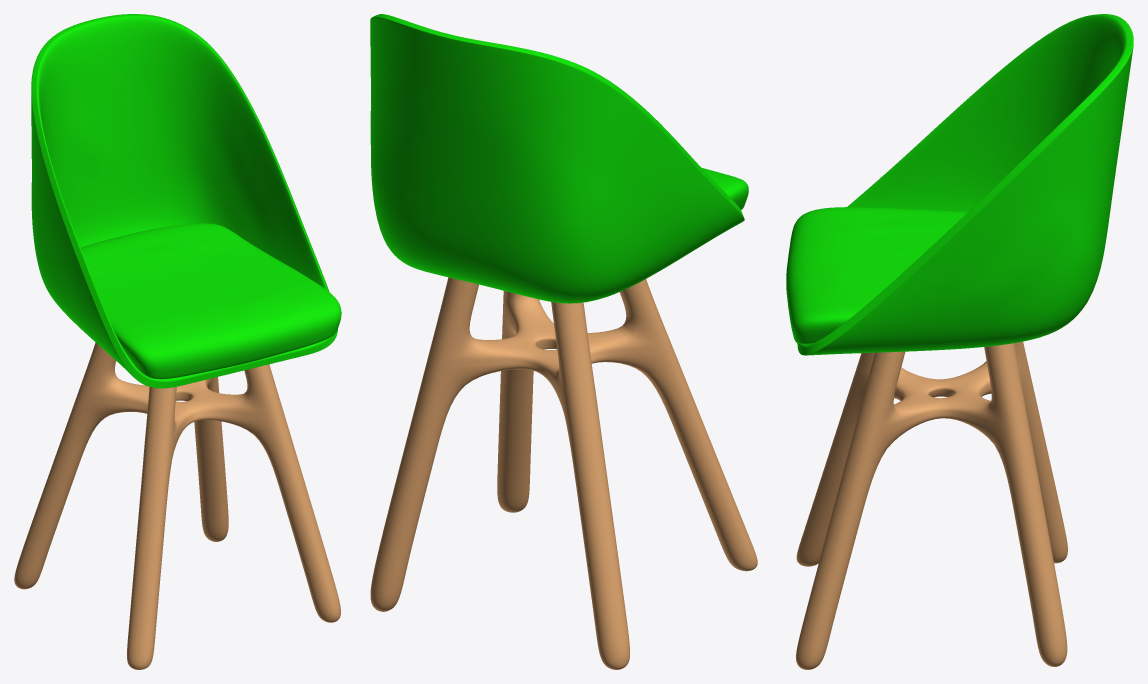
The model's file is chair_fabric_green.gltf.
The picture shows the model from 3 angles, left to right: view 1: azimuth 30°, elevation 25°; view 2: azimuth 150°, elevation 25°; view 3: azimuth 270°, elevation 25°; orthographic projection. The views are drawn at different scales.
Parts seen in each view (by area): view 1: Cube, Cube.002, Cube.003; view 2: Cube, Cube.002, Cube.003; view 3: Cube, Cube.002, Cube.003.
Boxes of the visible parts, left/top/right/bottom form: Cube: left=31, top=14, right=337, bottom=388; Cube.002: left=14, top=342, right=340, bottom=669; Cube.003: left=80, top=223, right=341, bottom=379; Cube: left=370, top=14, right=744, bottom=303; Cube.002: left=370, top=277, right=757, bottom=669; Cube.003: left=702, top=168, right=748, bottom=209; Cube: left=797, top=14, right=1133, bottom=355; Cube.002: left=796, top=341, right=1067, bottom=669; Cube.003: left=786, top=207, right=968, bottom=344.
Bounding box in the file's own units: 1.69 × 3.75 × 2.04.
